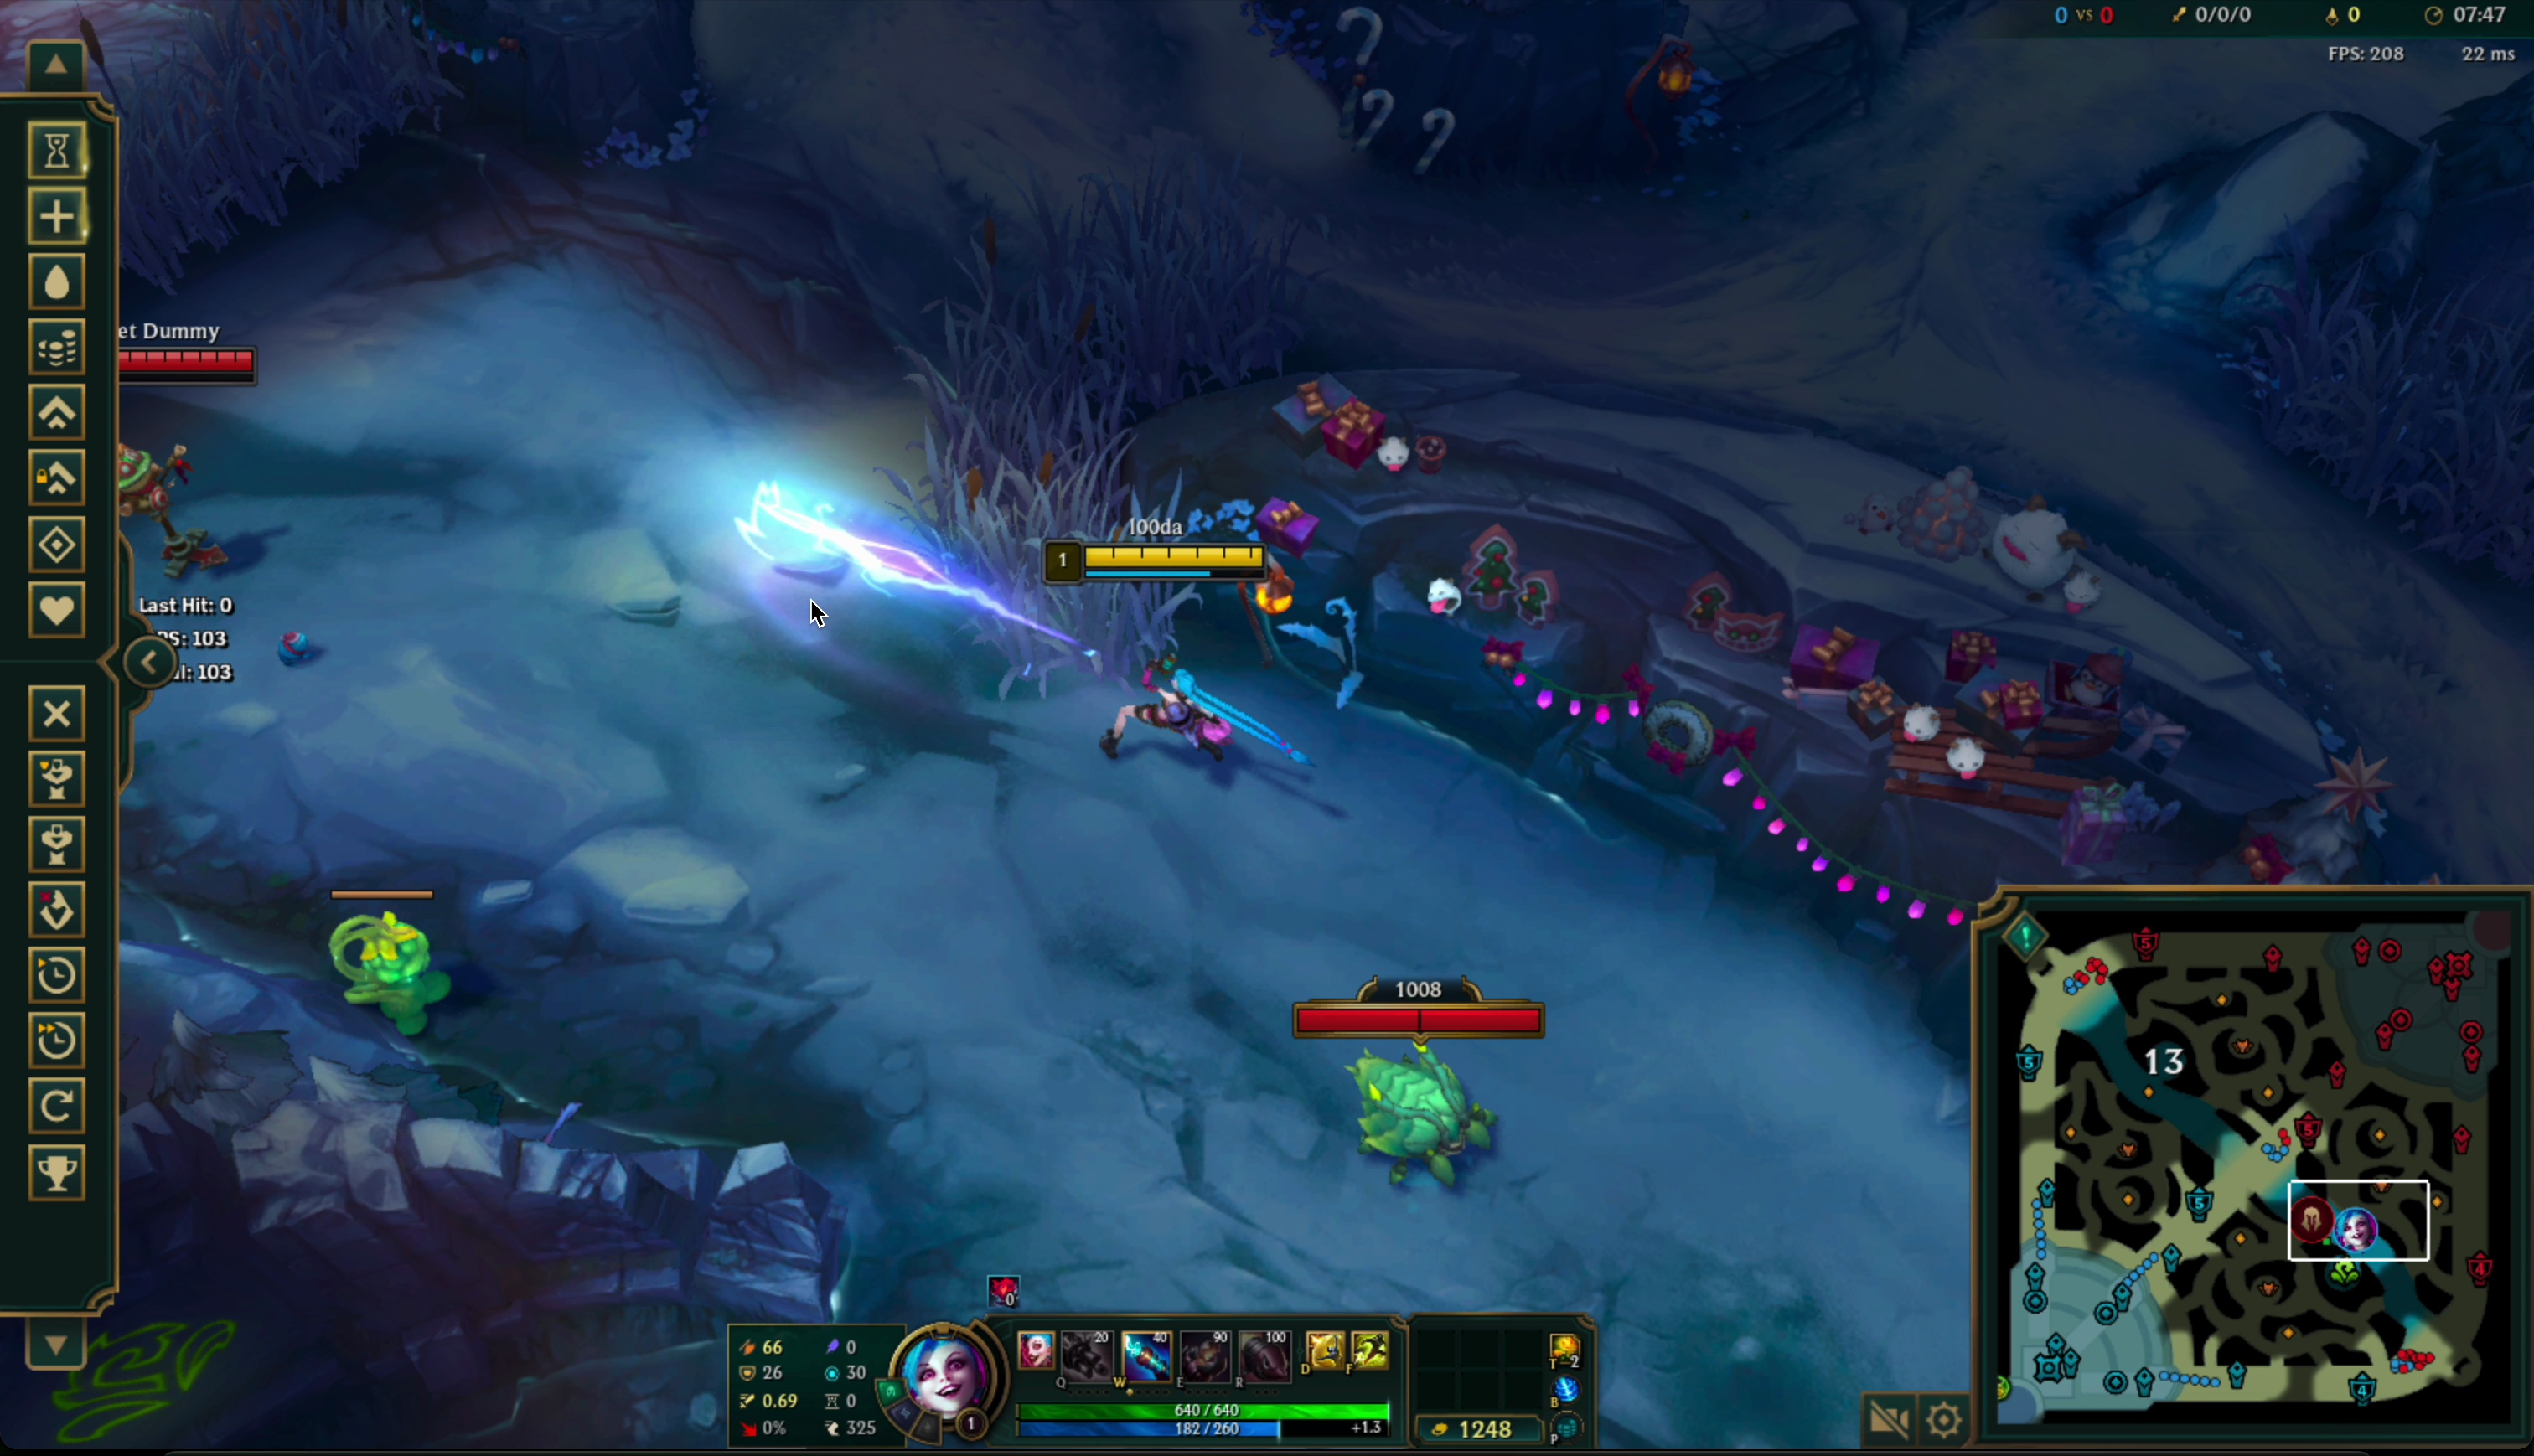JINX_W_PROJECTILE: (661, 419, 1319, 776)
